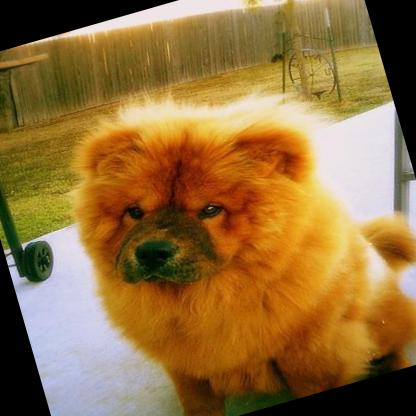chow: (34, 24, 416, 416)
